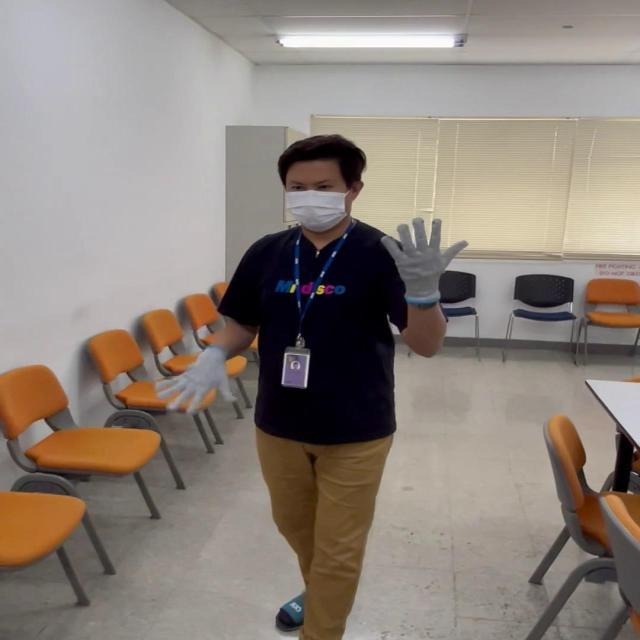gloved_hand: (377, 214, 458, 306), (162, 336, 252, 414)
